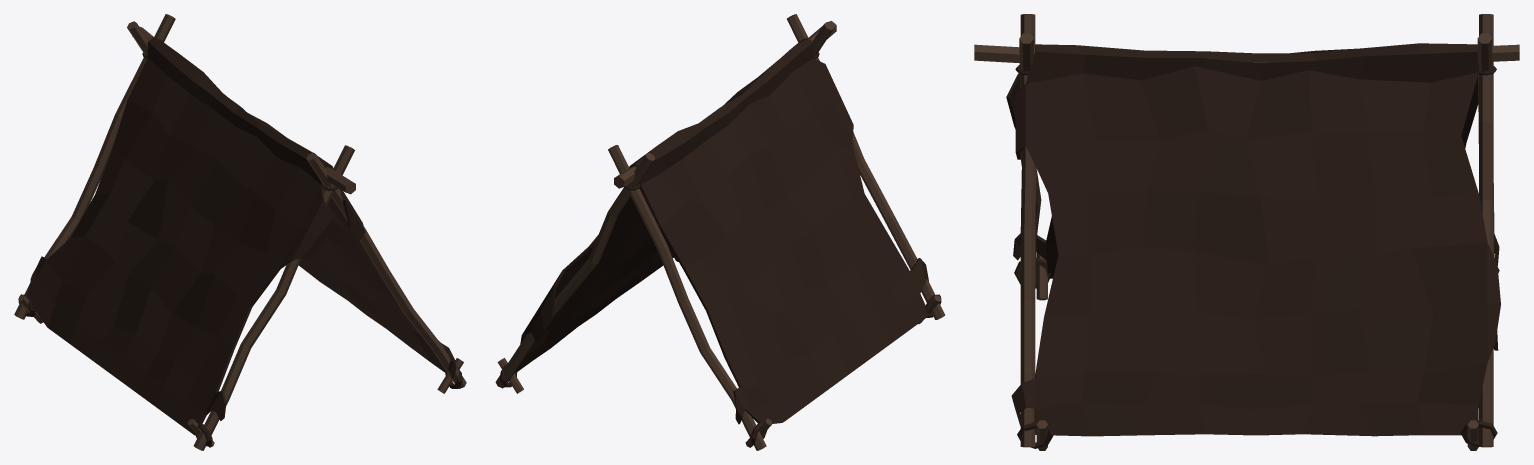
The model's file is Tent_02.gltf.
3 views of the same model, side by side, from view 1: azimuth 30°, elevation 25°; view 2: azimuth 150°, elevation 25°; view 3: azimuth 270°, elevation 25° (orthographic). The views are drawn at different scales.
Parts seen in each view (by area): view 1: T-tant; view 2: T-tant; view 3: T-tant.
Part boxes in pixels (box(x1,y1,x2,y2)): T-tant: box(14, 14, 466, 450); T-tant: box(495, 14, 945, 450); T-tant: box(974, 14, 1519, 450).
Bounding box in the file's own units: 1.6 × 1.54 × 2.15.
1 material, 1 textured.
